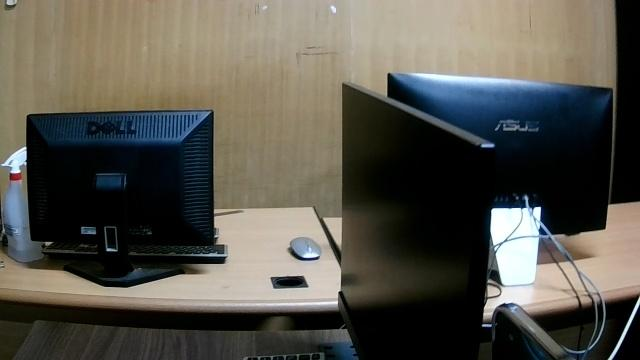AIO PC-Monitor-TV: (386, 71, 614, 285), (337, 81, 494, 359), (25, 109, 213, 251)
Meja: (0, 205, 344, 312)
